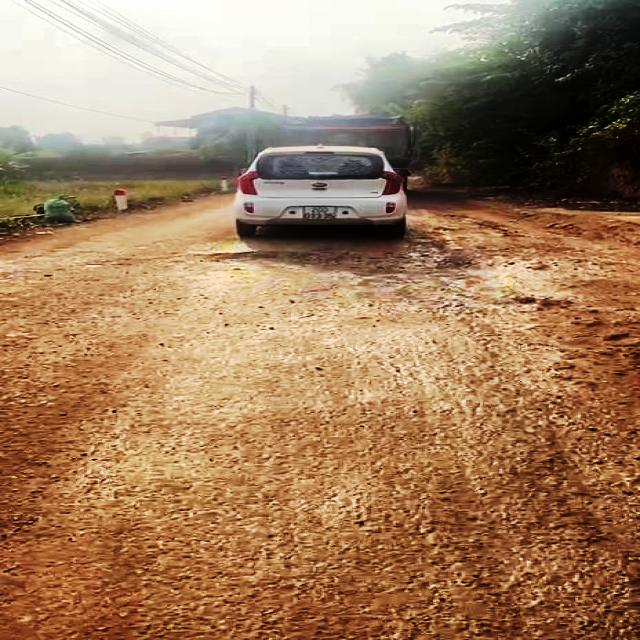pothole: (196, 247, 473, 271)
